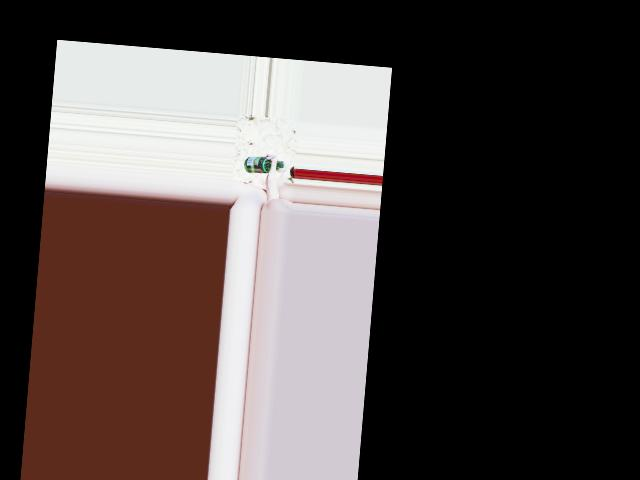beer: (243, 155, 285, 176)
